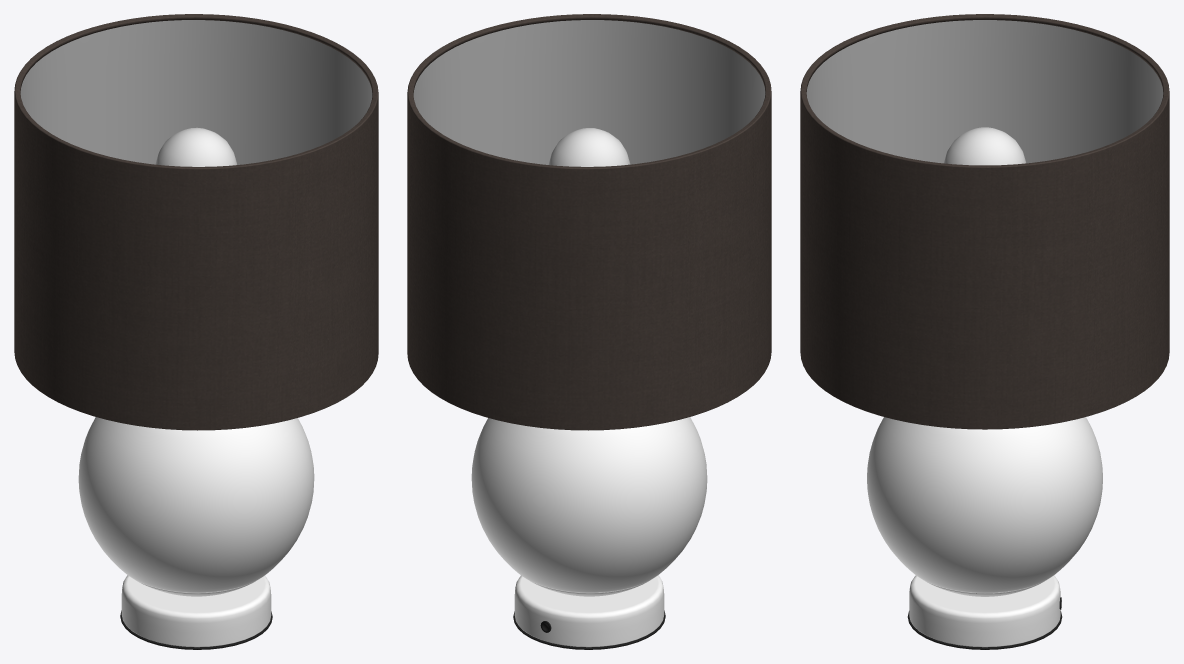
Rendered from desklamp.glb.
3 renders of one model, left to right at view 1: azimuth 30°, elevation 25°; view 2: azimuth 150°, elevation 25°; view 3: azimuth 270°, elevation 25°, orthographic.
Visible parts, largest first — view 1: lamp, lamp_iridescence, lamp_transmission; view 2: lamp, lamp_iridescence, lamp_transmission; view 3: lamp, lamp_iridescence, lamp_transmission.
Boxes of the visible parts, x1,y1,x2,y2 form: lamp: (14, 14, 378, 649); lamp_iridescence: (20, 20, 372, 164); lamp_transmission: (78, 417, 314, 592); lamp: (407, 14, 771, 649); lamp_iridescence: (413, 20, 765, 164); lamp_transmission: (471, 417, 707, 592); lamp: (800, 14, 1169, 649); lamp_iridescence: (806, 20, 1163, 163); lamp_transmission: (867, 417, 1102, 593).
Bounding box in the file's own units: 0.2973 × 0.4761 × 0.3019.
Materials: 1 (1 with a texture image).
